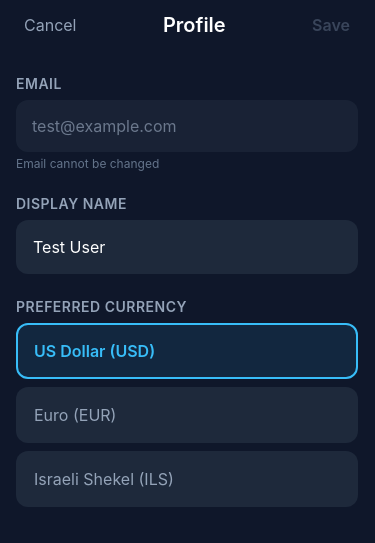
Test: ProfileScreen › Validation › shows error when display name is empty
This screenshot has width=375, height=543.
Clear the field with test id "profile.displayNameInput": (187, 247) x1=16 y1=220 x2=358 y2=274
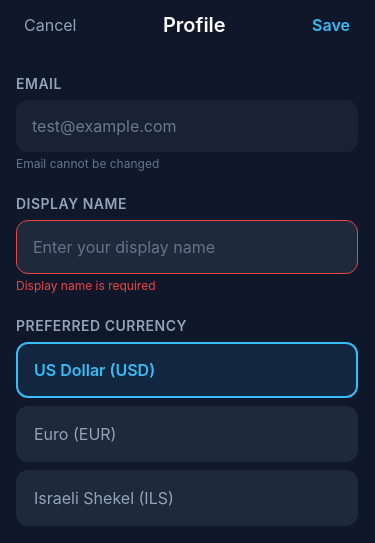
Expected: the text "Display name is required" is shown, x1=16 y1=278 x2=156 y2=293
